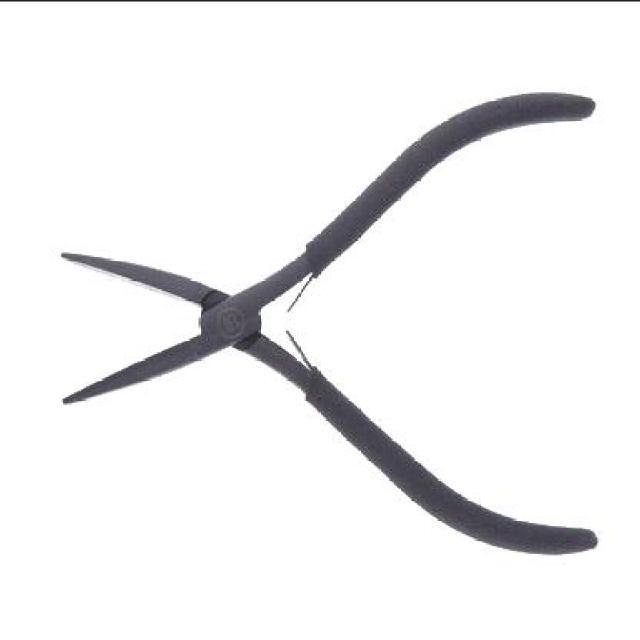pliers: (60, 90, 600, 561)
